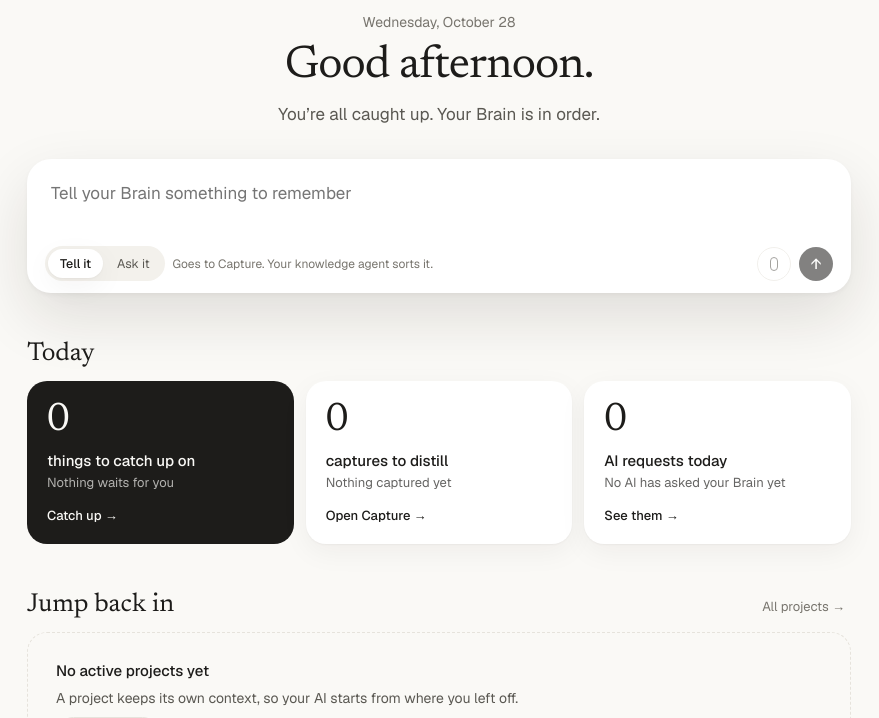
The day's Home › Tell saves the words as a capture and says where they went
This screenshot has width=879, height=718.
In the text box labelled "Tell your Brain": (439, 207) left=45, top=177, right=833, bottom=236, type "Venue holds 80 people"
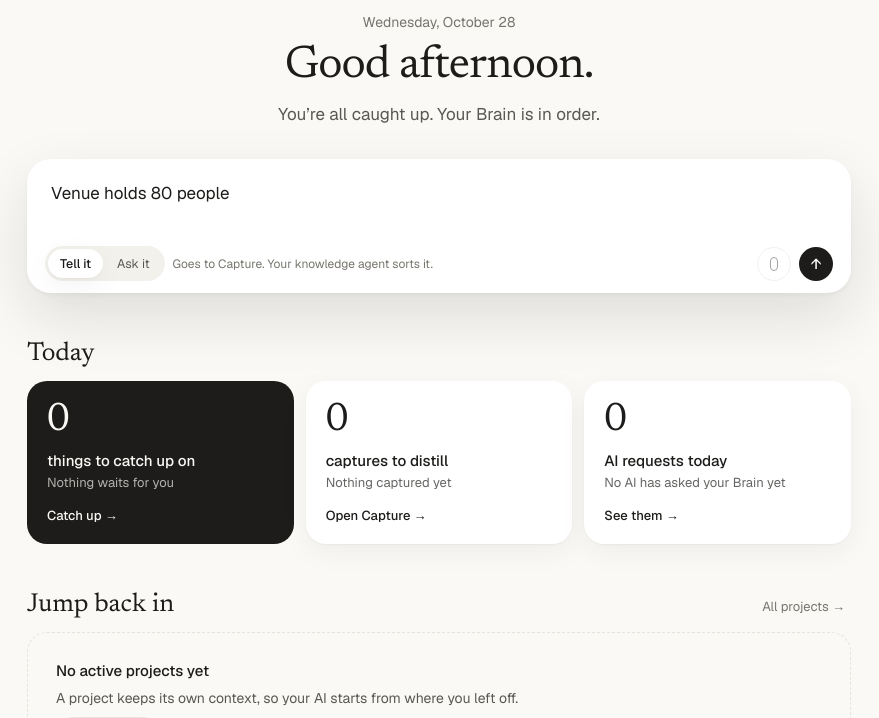
Click the button named "Save to Capture": (816, 264) left=799, top=247, right=833, bottom=281
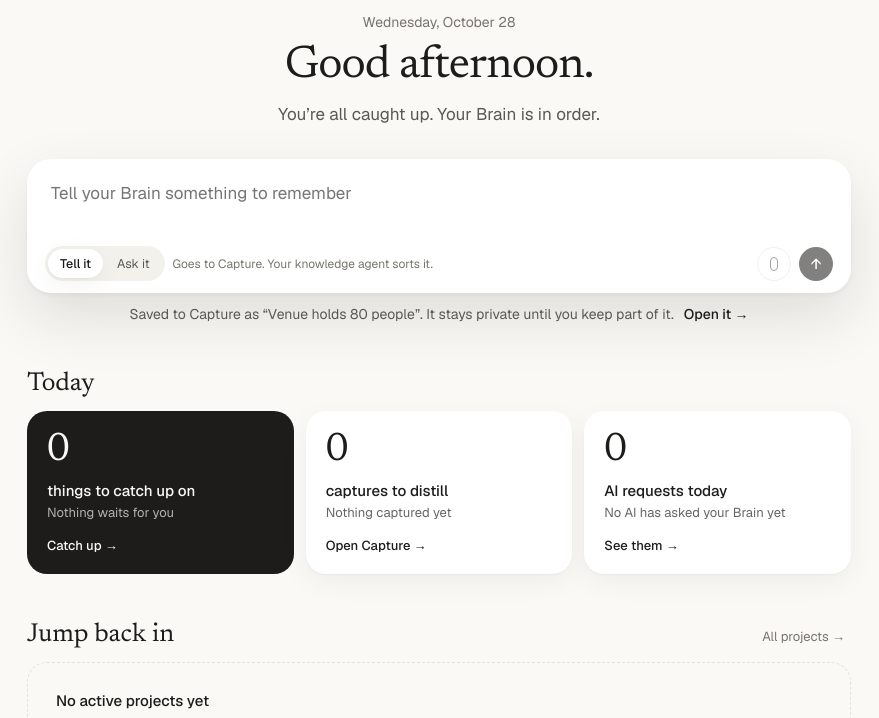
Now the text "Saved to Capture as “Venue holds 80 people”" is shown, box left=129, top=305, right=674, bottom=323
